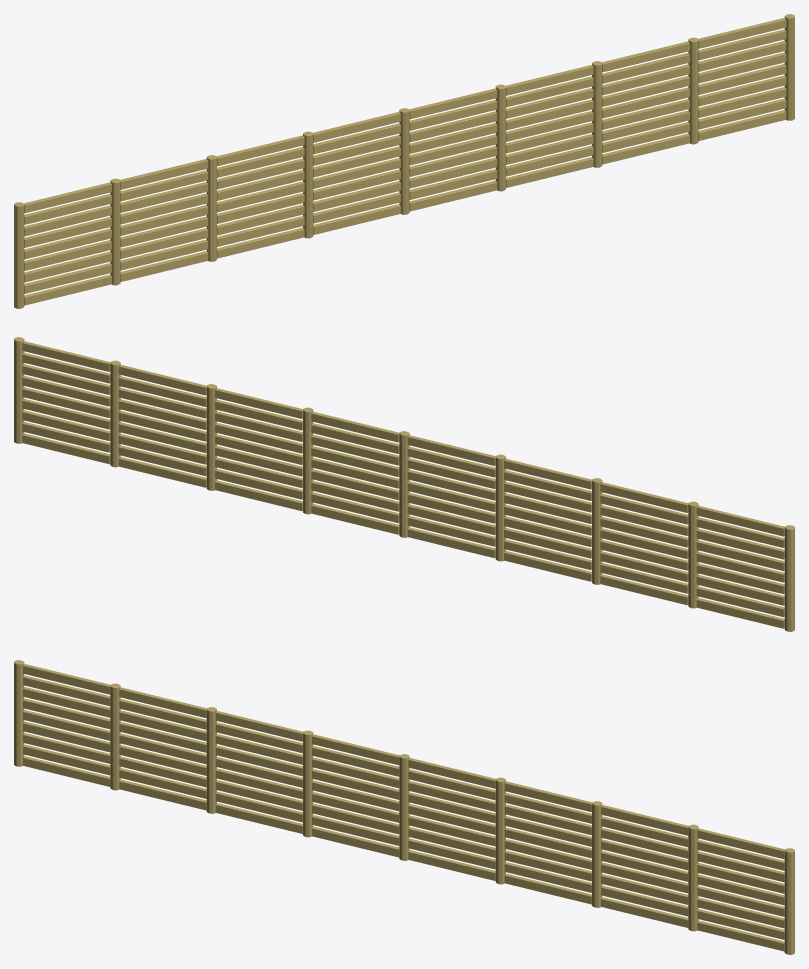
3 views of the same model, one above another, from view 1: azimuth 30°, elevation 25°; view 2: azimuth 150°, elevation 25°; view 3: azimuth 330°, elevation 25° (orthographic).
Parts seen in each view (by area): view 1: 柵; view 2: 柵; view 3: 柵.
Part boxes in pixels (x1=…): 柵: x1=14, y1=14, x2=794, y2=308; 柵: x1=14, y1=337, x2=794, y2=631; 柵: x1=14, y1=660, x2=794, y2=954.
Bounding box in the file's own units: 949 × 120 × 10.57.
